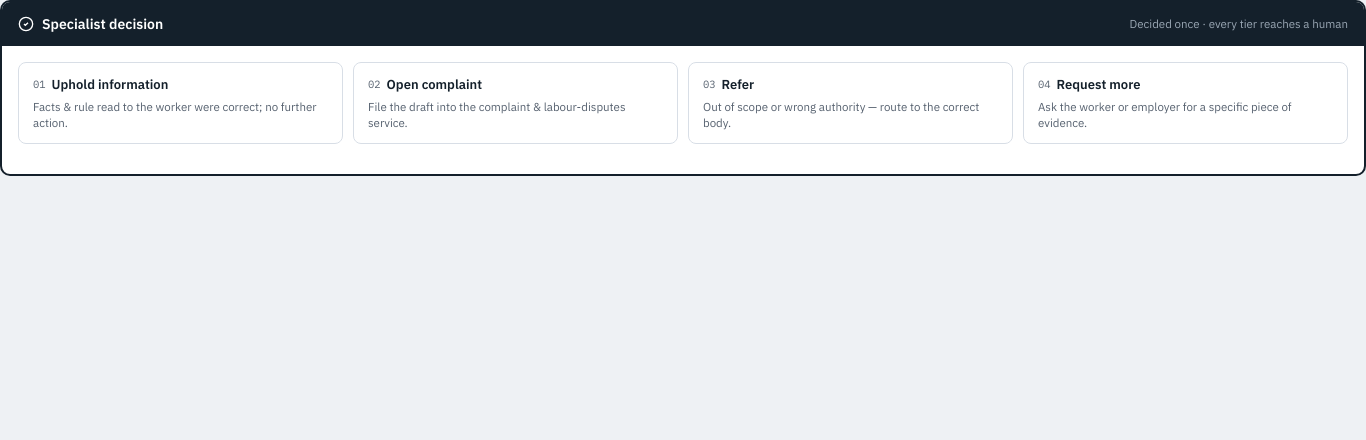
Scenario: DecisionPanel — failed submission › surfaces an already-decided 409 with a specific message
This screenshot has width=1366, height=440.
Click the radio button labelled "Uphold information".
click(180, 103)  # box top-left (18, 62), bottom-right (343, 144)
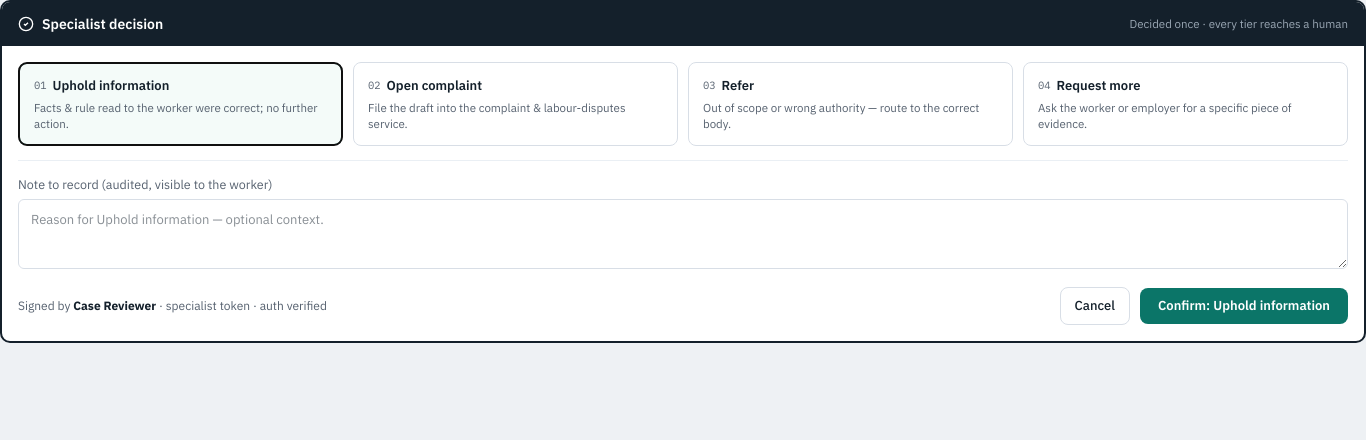
Click the button "Confirm: Uphold information".
click(1244, 306)  # box top-left (1140, 288), bottom-right (1348, 324)
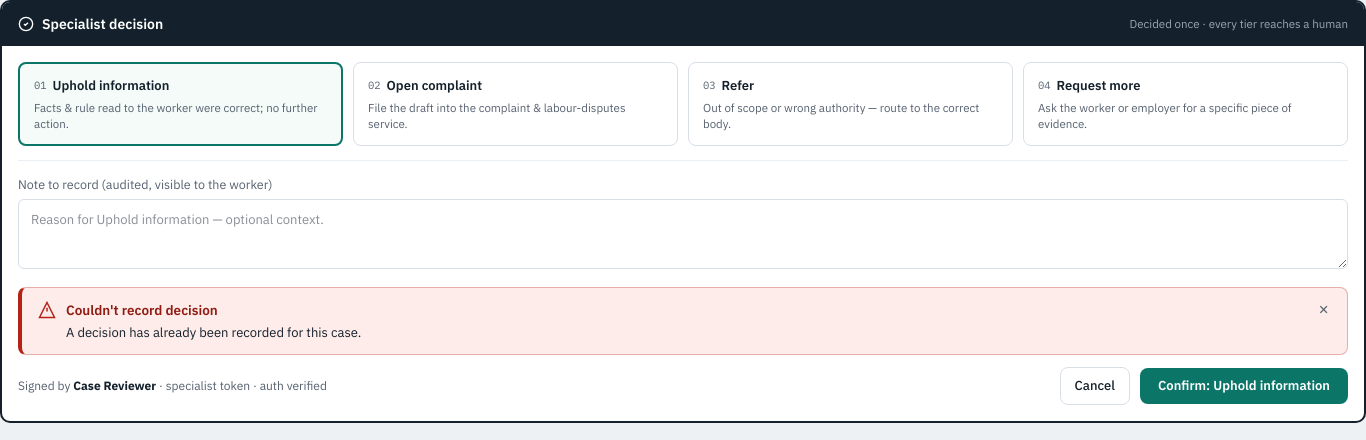
Expected: the text "A decision has already been recorded for this case." is shown, top-left (66, 324), bottom-right (361, 341)
